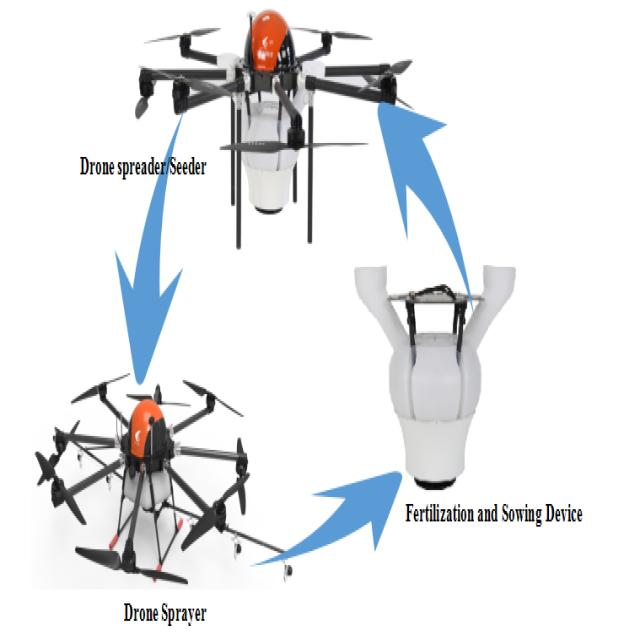drone: (0, 329, 248, 583), (124, 6, 407, 148)
